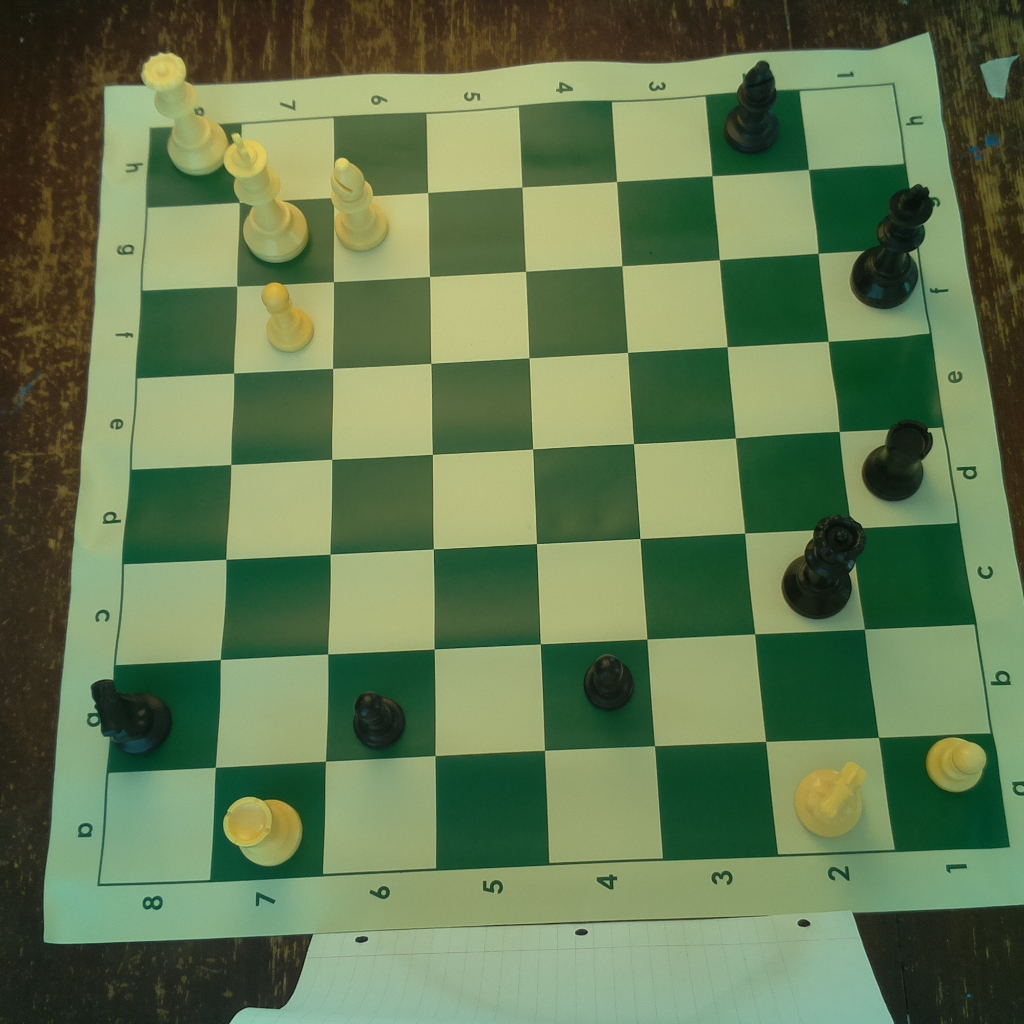black_bishop: (721, 53, 784, 156)
black_king: (850, 183, 940, 314)
black_knight: (84, 667, 181, 761)
black_pawn: (345, 687, 411, 751), (583, 649, 638, 718)
black_queen: (780, 512, 870, 623)
black_rook: (860, 412, 937, 505)
file_a: (97, 734, 1011, 890)
file_b: (105, 621, 994, 774)
file_c: (116, 525, 976, 664)
file_d: (123, 427, 958, 566)
file_e: (133, 334, 942, 469)
file_f: (136, 249, 933, 379)
file_g: (142, 165, 921, 292)
file_h: (144, 82, 907, 212)
outline: (97, 83, 1011, 892)
rank_1: (801, 82, 1008, 853)
rank_2: (706, 90, 898, 853)
rank_3: (611, 95, 783, 864)
rank_4: (520, 101, 666, 867)
rank_5: (425, 104, 551, 873)
rank_6: (319, 113, 438, 873)
rank_7: (211, 117, 333, 880)
rank_8: (97, 122, 241, 886)
white_bishop: (321, 157, 393, 252)
white_king: (218, 127, 312, 265)
white_knight: (789, 753, 870, 840)
white_pawn: (257, 277, 319, 357), (923, 730, 993, 793)
white_queen: (137, 51, 234, 179)
white_rook: (211, 787, 307, 867)
